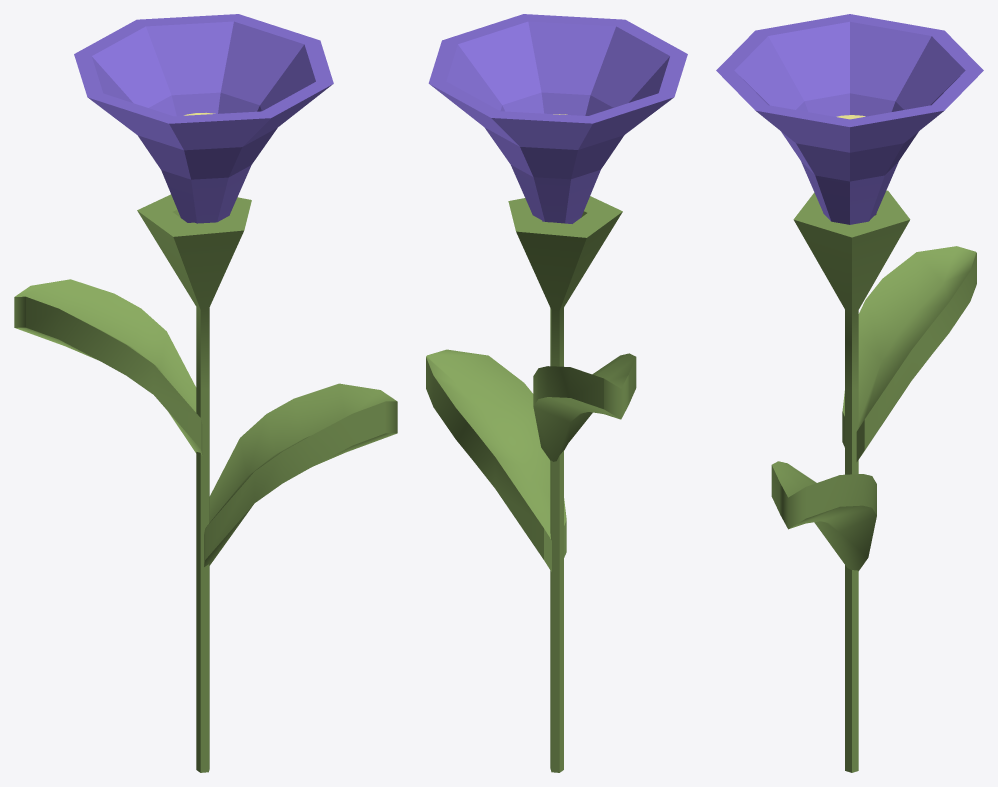
The model's file is MorningGlory.glb.
3 renders of one model, left to right at view 1: azimuth 30°, elevation 25°; view 2: azimuth 150°, elevation 25°; view 3: azimuth 270°, elevation 25°, orthographic.
Visible parts, largest first — view 1: pPipe16, pCube8, pCube9, pPipe15; view 2: pPipe16, pCube8, pPipe15, pCube9; view 3: pPipe16, pCube9, pPipe15, pCube8.
Boxes of the visible parts, x1,y1,x2,y2 form: pPipe16: (74, 14, 333, 223); pCube8: (204, 383, 397, 566); pCube9: (14, 279, 202, 455); pPipe15: (137, 194, 251, 772); pPipe16: (428, 14, 687, 223); pCube8: (426, 349, 566, 571); pPipe15: (508, 196, 622, 772); pCube9: (533, 353, 636, 461); pPipe16: (716, 14, 983, 224); pCube9: (842, 246, 976, 461); pPipe15: (793, 190, 910, 772); pCube8: (771, 461, 876, 570).
Bounding box in the file's own units: 1.28 × 2.97 × 1.03.
